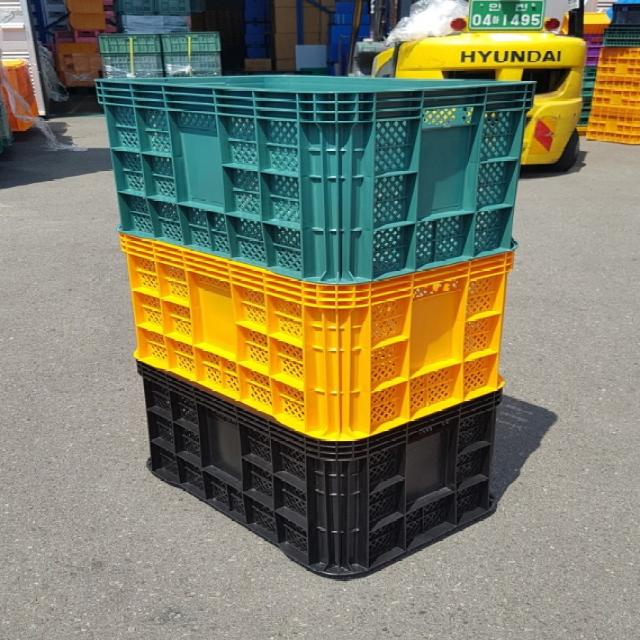basket: (90, 68, 535, 289), (122, 363, 503, 591), (110, 234, 514, 449)
